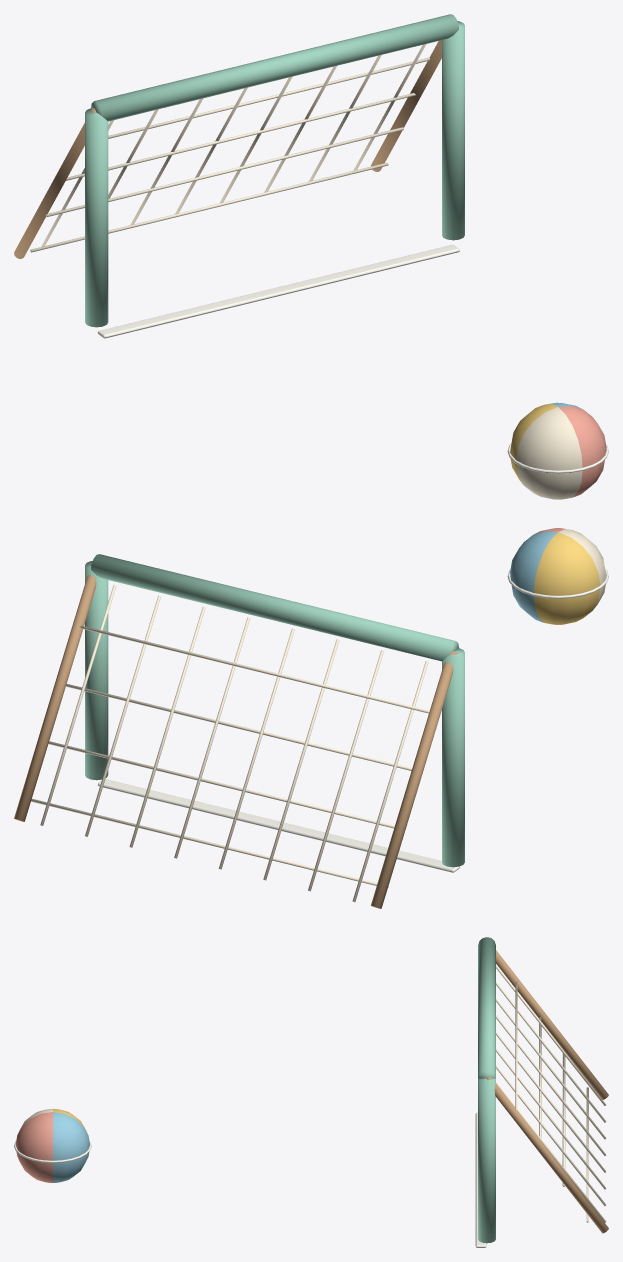
Rendered from play-goal.glb.
3 views of the same model, one above another, from view 1: azimuth 30°, elevation 25°; view 2: azimuth 150°, elevation 25°; view 3: azimuth 270°, elevation 25° (orthographic). The views are drawn at different scales.
Parts seen in each view (by area): view 1: Scenery surfaces, Ball surfaces; view 2: Scenery surfaces, Ball surfaces; view 3: Scenery surfaces, Ball surfaces.
Boxes of the visible parts, x1,y1,x2,y2 form: Scenery surfaces: [14, 14, 464, 338]; Ball surfaces: [507, 402, 608, 499]; Scenery surfaces: [14, 554, 464, 908]; Ball surfaces: [507, 528, 608, 624]; Scenery surfaces: [475, 937, 608, 1247]; Ball surfaces: [14, 1108, 91, 1182].
Bounding box in the file's own units: 1.69 × 0.995 × 3.01.
